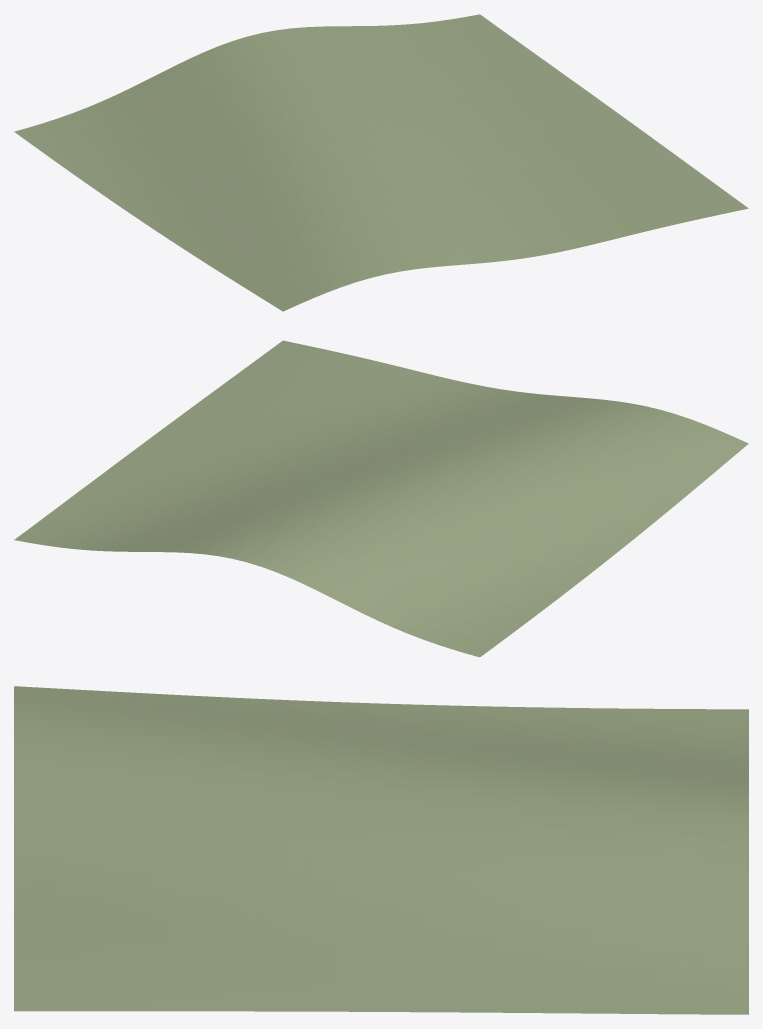
Rendered from desert-7-6.glb.
The picture shows the model from 3 angles, top to bottom: view 1: azimuth 30°, elevation 25°; view 2: azimuth 150°, elevation 25°; view 3: azimuth 270°, elevation 25°; orthographic projection. The views are drawn at different scales.
Visible parts, largest first — view 1: desert-7-6; view 2: desert-7-6; view 3: desert-7-6.
Part boxes in pixels (x1=…): desert-7-6: x1=14, y1=14, x2=748, y2=311; desert-7-6: x1=14, y1=340, x2=748, y2=657; desert-7-6: x1=14, y1=686, x2=748, y2=1014.
Size of the model in its own units: 512 by 40.18 by 512.
